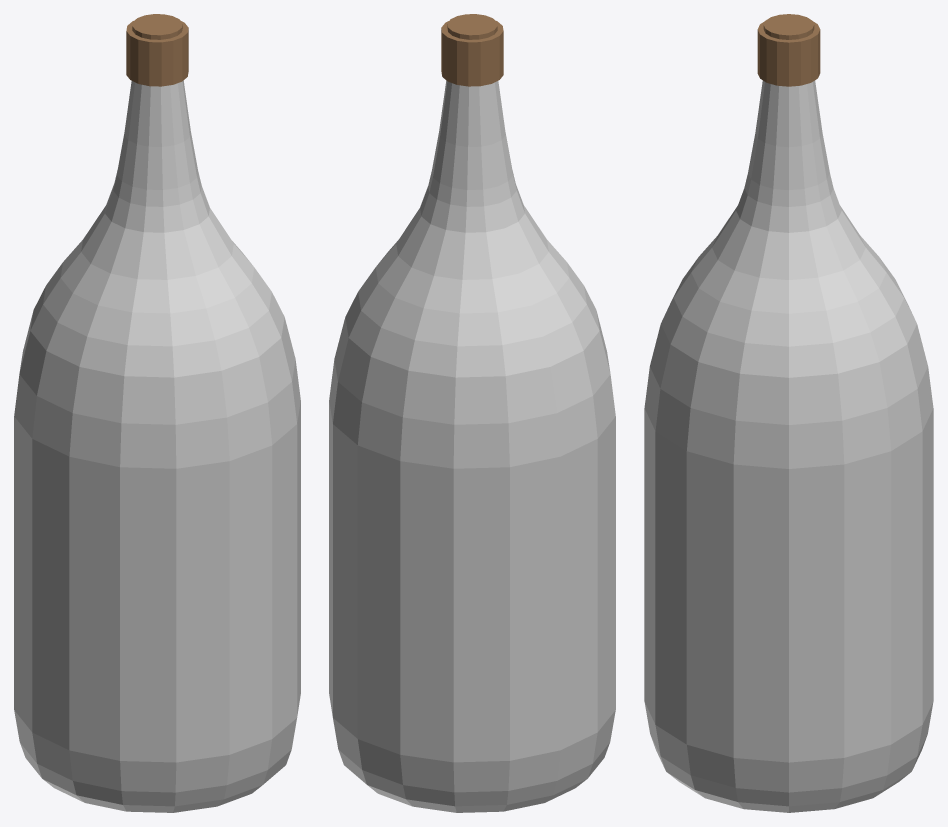
Rendered from Bottle.fbx.
3 views of the same model, side by side, from view 1: azimuth 30°, elevation 25°; view 2: azimuth 150°, elevation 25°; view 3: azimuth 270°, elevation 25° (orthographic).
Visible parts, largest first — view 1: Botile, CorkBoi; view 2: Botile, CorkBoi; view 3: Botile, CorkBoi.
Boxes of the visible parts, box(x1,y1,x2,y2) form: Botile: box(14, 80, 300, 812); CorkBoi: box(126, 14, 188, 86); Botile: box(329, 80, 615, 812); CorkBoi: box(441, 14, 503, 86); Botile: box(644, 80, 933, 812); CorkBoi: box(757, 14, 820, 86).
Size of the model in its own units: 157 by 447 by 157.
